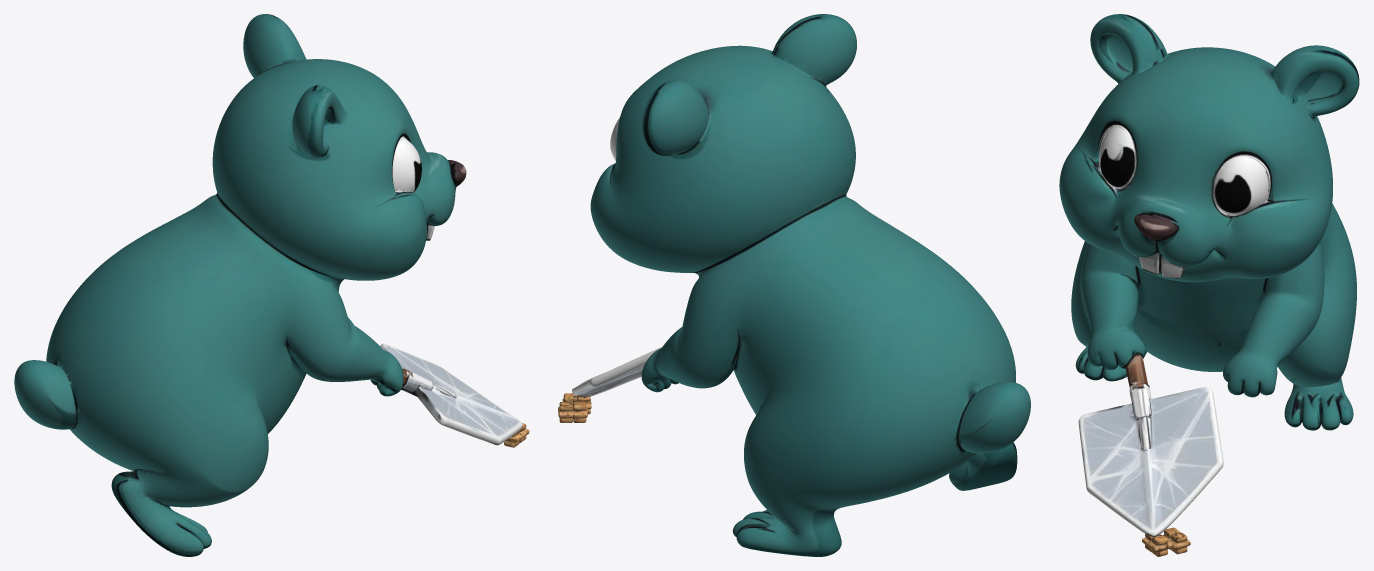
The model's file is go-gopher.glb.
3 views of the same model, side by side, from view 1: azimuth 30°, elevation 25°; view 2: azimuth 150°, elevation 25°; view 3: azimuth 270°, elevation 25° (orthographic). The views are drawn at different scales.
Parts seen in each view (by area): view 1: node_0; view 2: node_0; view 3: node_0.
Boxes of the visible parts, x1,y1,x2,y2 form: node_0: (14,14,529,556); node_0: (558,14,1030,556); node_0: (1059,14,1359,556).
Size of the model in its own units: 0.9193 by 0.7721 by 0.4893.
1 material, 1 textured.
